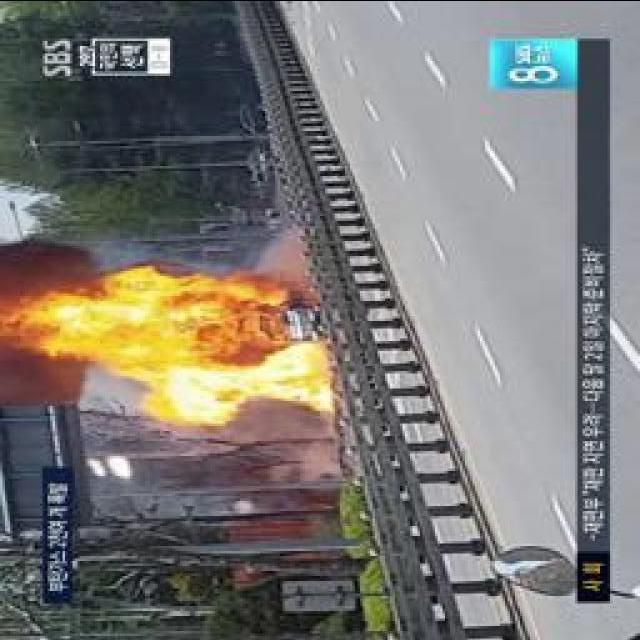Fire: (126, 274, 330, 421), (25, 285, 116, 365)
